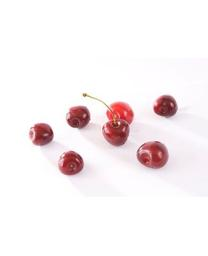cherry: (136, 141, 169, 169), (102, 119, 130, 146), (153, 93, 178, 119), (58, 151, 84, 175), (108, 101, 133, 125), (28, 123, 54, 145), (66, 106, 90, 128)
